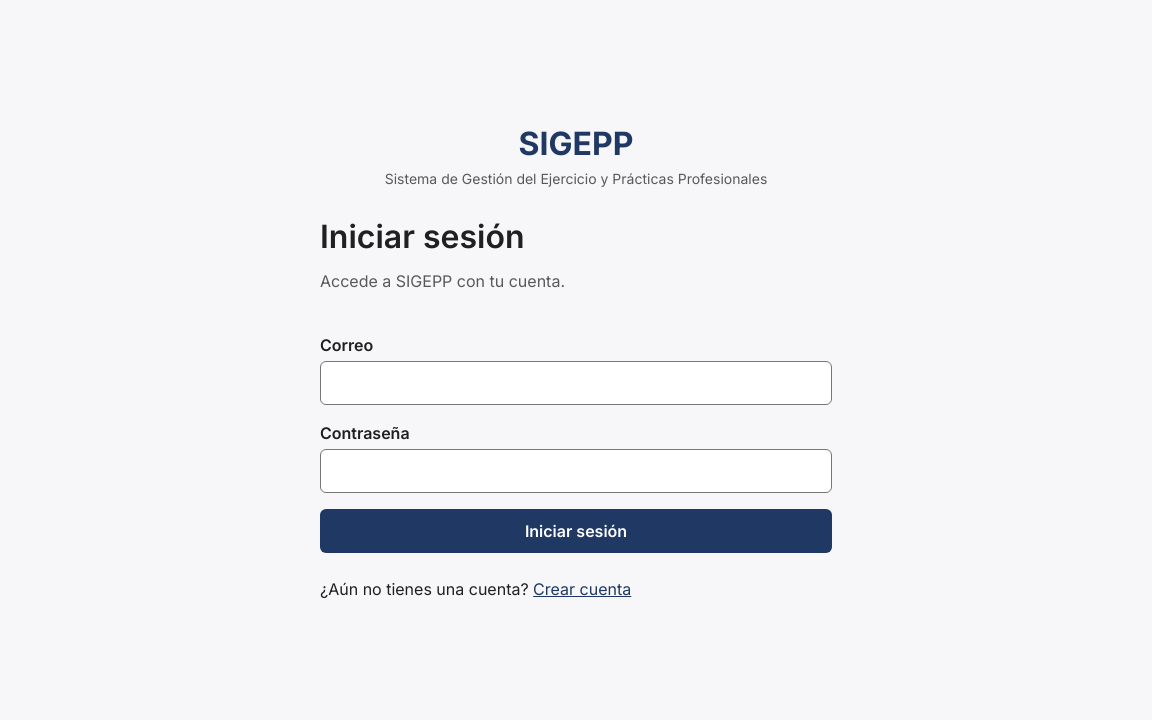
Test: router real tras login valida retorno /candidatos en /candidatos (query)
Type "gerente@empresa.com" into the field labelled "Correo".
click(576, 382); type("gerente@empresa.com")  # box [320,360,832,404]
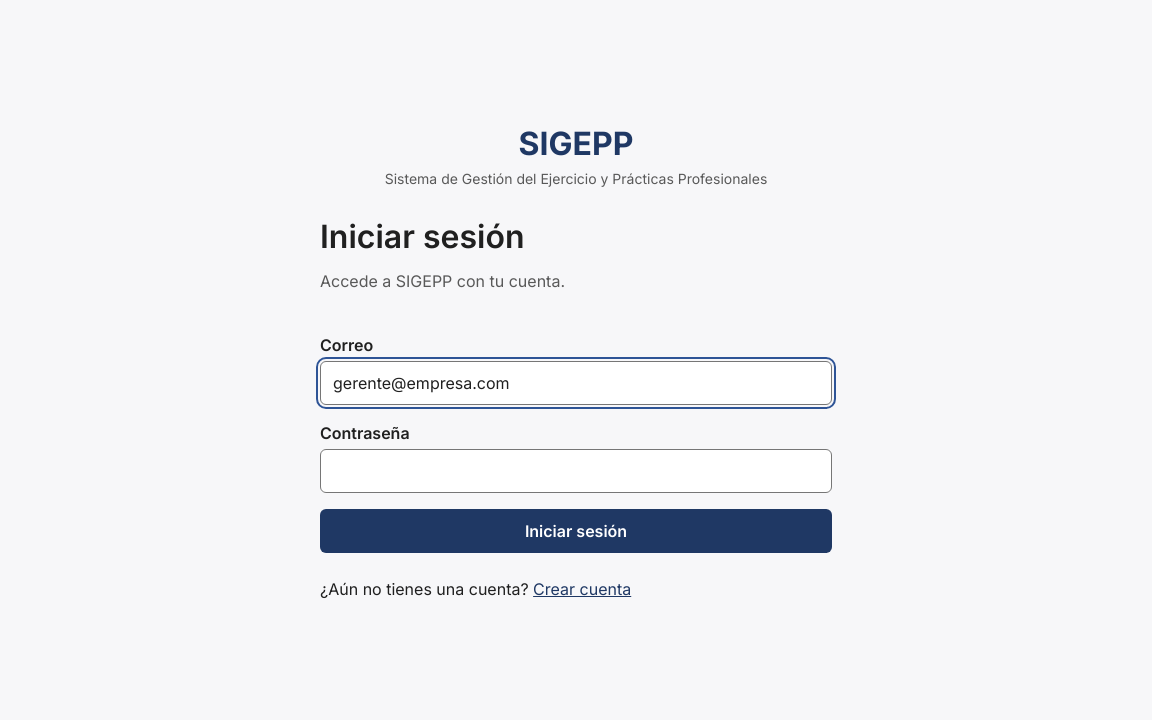
Type "secreto123" into the password field labelled "Contraseña".
click(576, 470); type("secreto123")  # box [320,448,832,492]
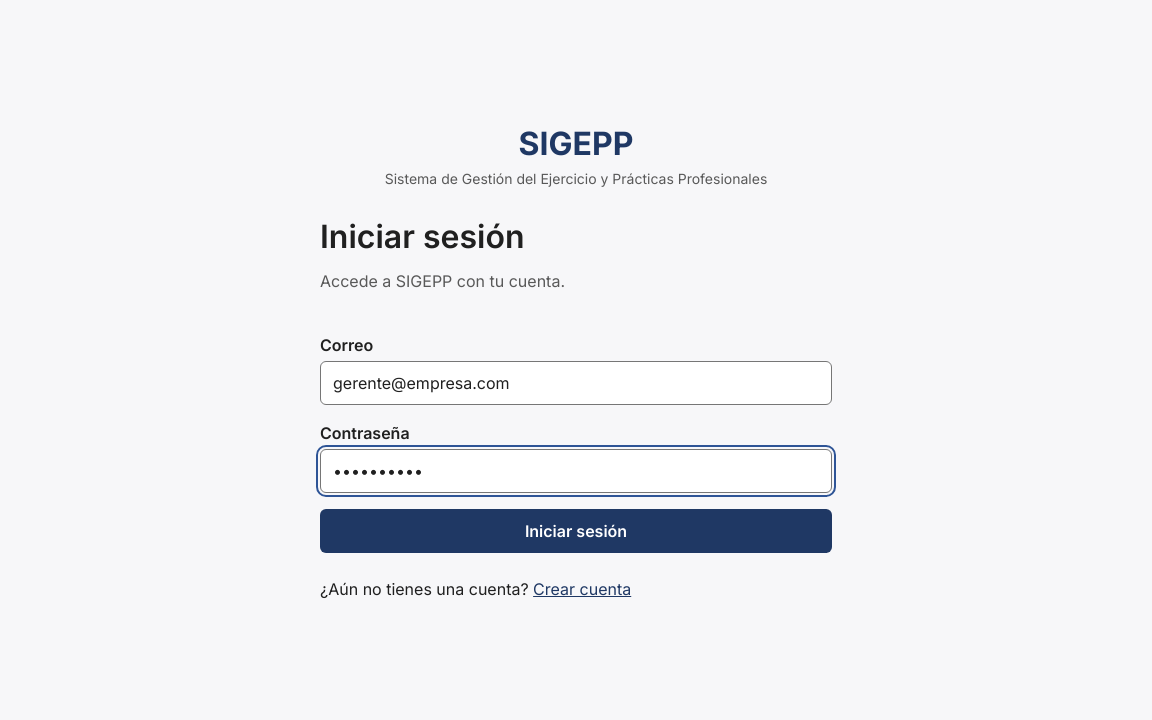
Click the button "Iniciar sesión".
click(576, 530)  # box [320,508,832,552]
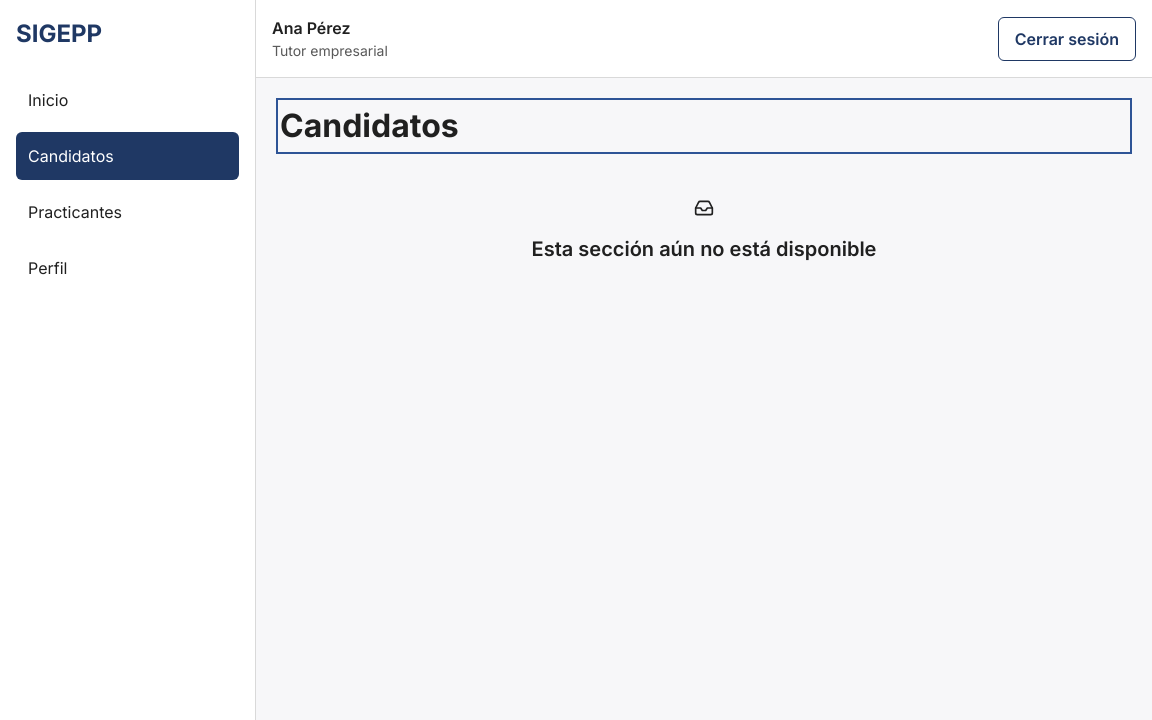
Check: the heading "Candidatos" is shown, box [280,106,459,145]
